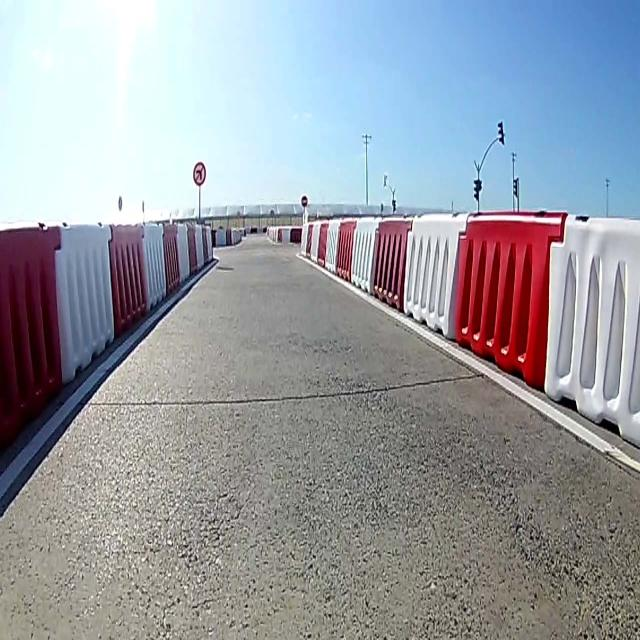girisyok: (300, 196, 308, 206)
soladonulmez: (193, 161, 207, 187)
